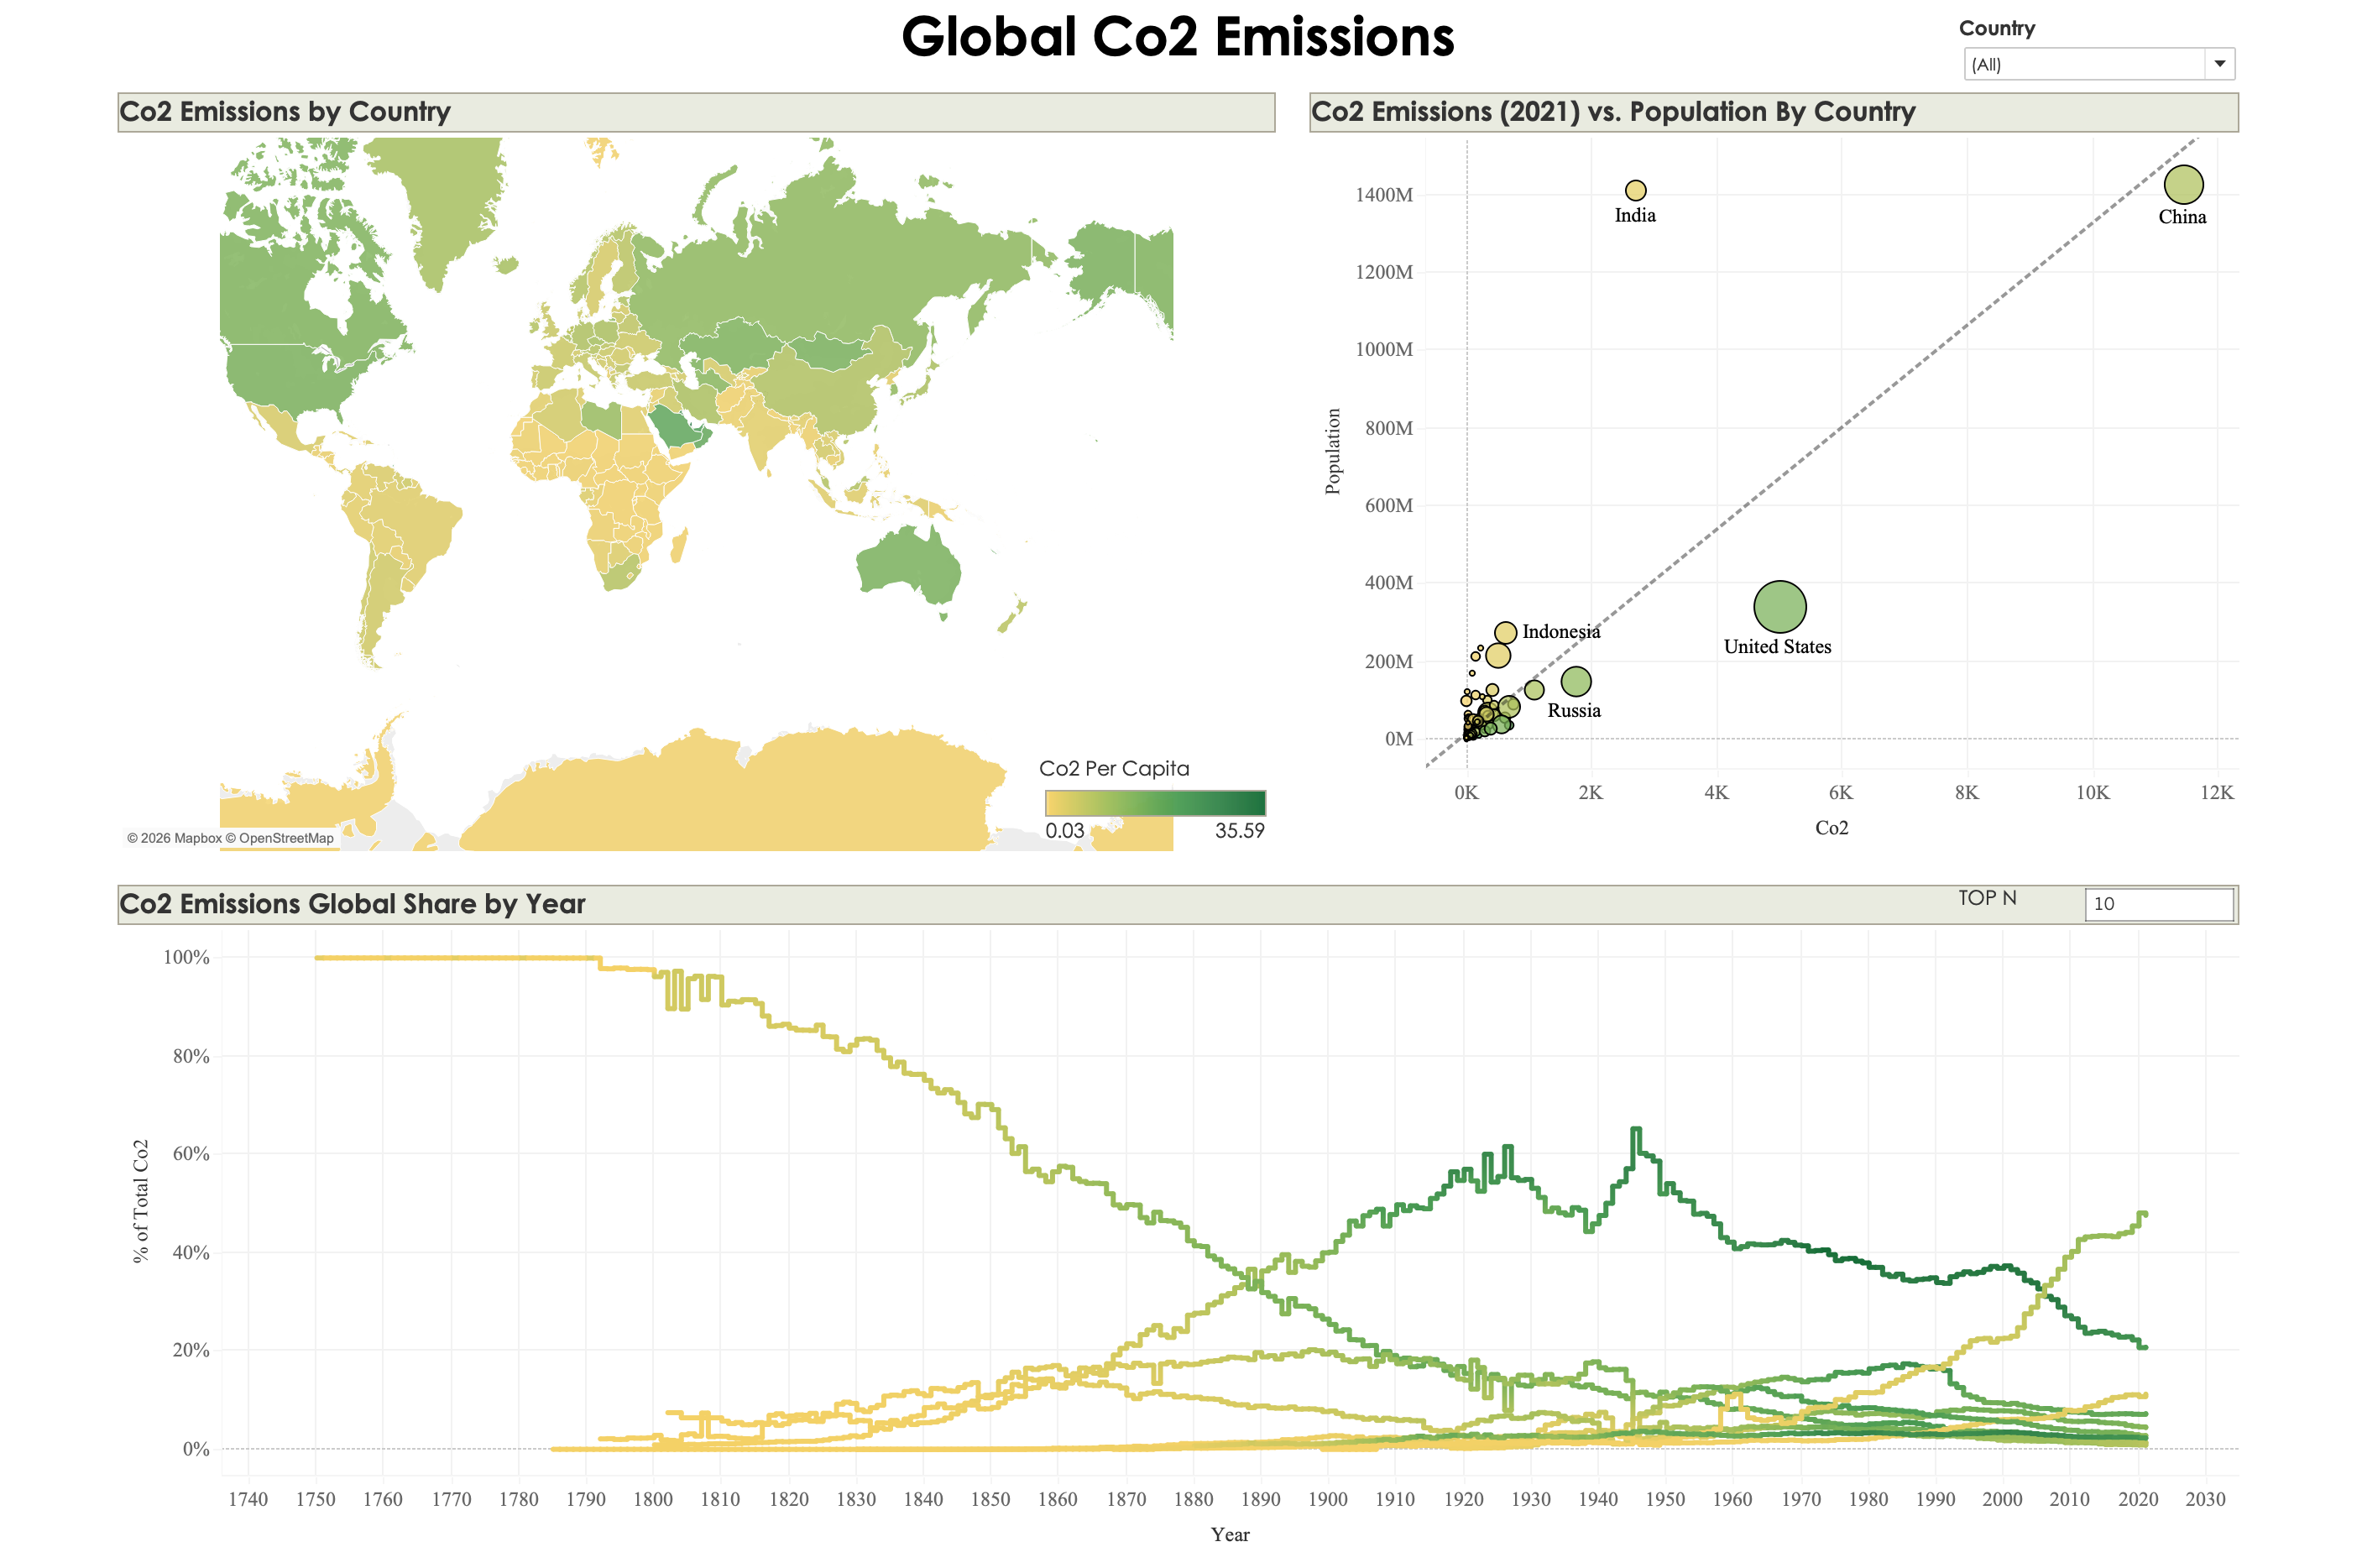

The dashboard page shown, as its layout file describes it:
{"tool":"tableau","page":{"name":"Global Co2 Emissions","canvas":[1300,950],"ordinal":0},"visuals":[{"type":"text","box":[8,8,1284,41]},{"type":"filter","title":"Map","param":"[federated.05mcjmd0btmg4s176nuyd1pl3bhe].[none:Country (copy)_3554233007808513:n","box":[1115,13,168,50]},{"type":"worksheet","title":"Map","mark":"Automatic","box":[8,49,710,472]},{"type":"worksheet","title":"Scatter Plot","mark":"Circle","rows":["population"],"cols":["co2"],"box":[718,49,574,472]},{"type":"legend","title":"Map","param":"[federated.05mcjmd0btmg4s176nuyd1pl3bhe].[sum:co2_per_capita:qk]","box":[567,455,140,54]},{"type":"worksheet","title":"Line Chart","mark":"Automatic","cols":["year"],"box":[8,521,1284,421]},{"type":"parameter","param":"[Parameters].[Parameter 3554232971882496]","box":[1115,530,167,24]}]}

Visuals, with their boxes in screenshot pixels (x1, y1, x2, y2):
text: box(308, 50, 2361, 117)
"Map" filter: box(2111, 58, 2361, 139)
"Map" worksheet: box(308, 117, 1465, 886)
"Scatter Plot" worksheet (Circle marks): box(1465, 117, 2361, 886)
"Map" legend: box(1219, 778, 1446, 865)
"Line Chart" worksheet: box(308, 886, 2361, 1567)
parameter: box(2111, 900, 2361, 939)
